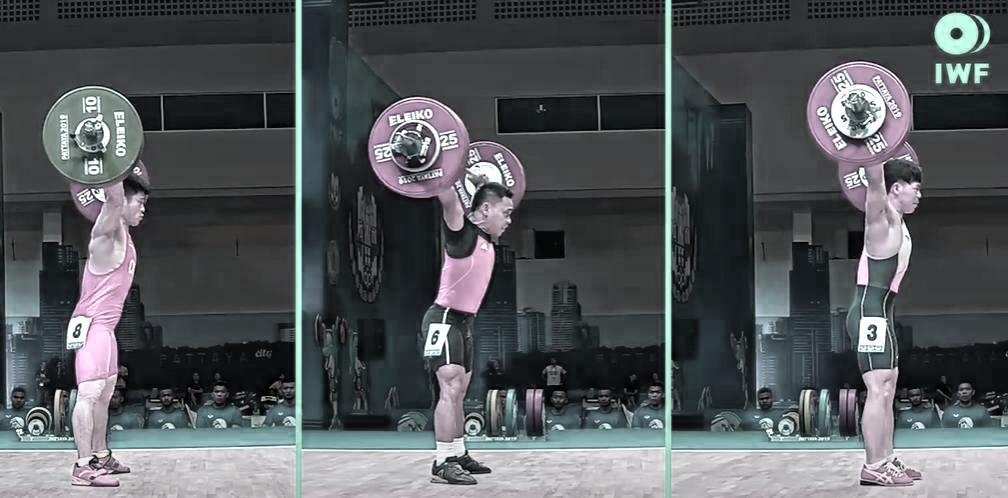Barbell: (388, 130, 407, 150), (847, 87, 864, 108), (82, 116, 98, 137)
